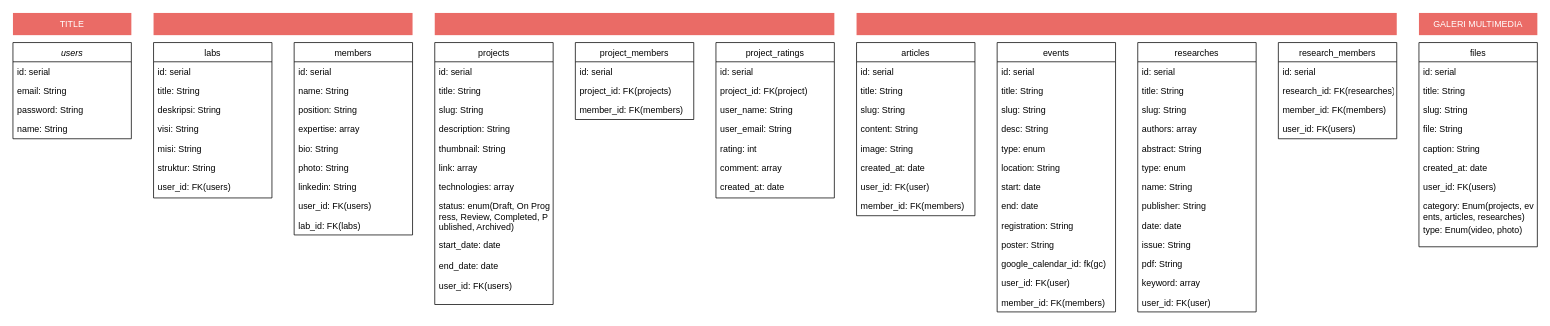
Some shapes in this 1550 by 326 pixel diagram are drawn without their labels. Each missing label, with the centre of its shape:
"PORTOFOLIO PROYEK" belongs at (x=634, y=24).
"PROFILE LABOLATORIUM" belongs at (x=282, y=24).
"PUBLIKASI & BERITA" belongs at (x=1126, y=24).
